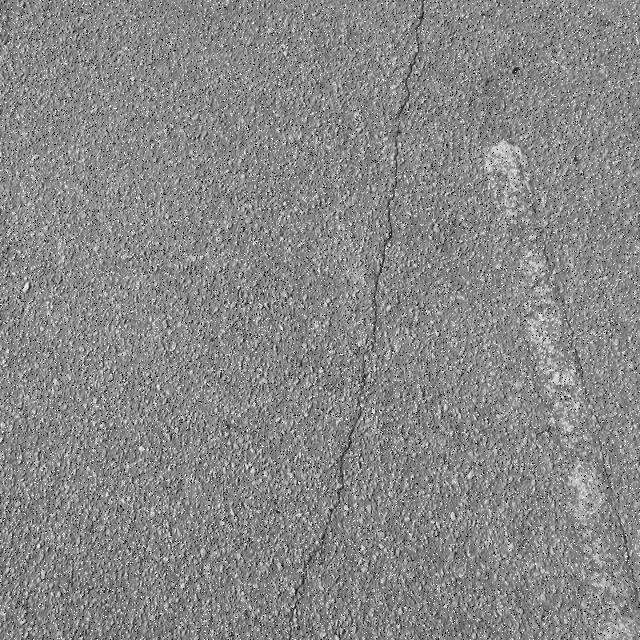minor crack: (322, 462, 350, 520)
moderate crack: (304, 9, 431, 632), (484, 133, 636, 633), (282, 490, 327, 630)
severe crack: (5, 4, 311, 437), (3, 424, 212, 639), (466, 39, 542, 136), (494, 380, 577, 454), (374, 151, 401, 303), (342, 331, 378, 423), (535, 418, 558, 438), (392, 121, 405, 145)
